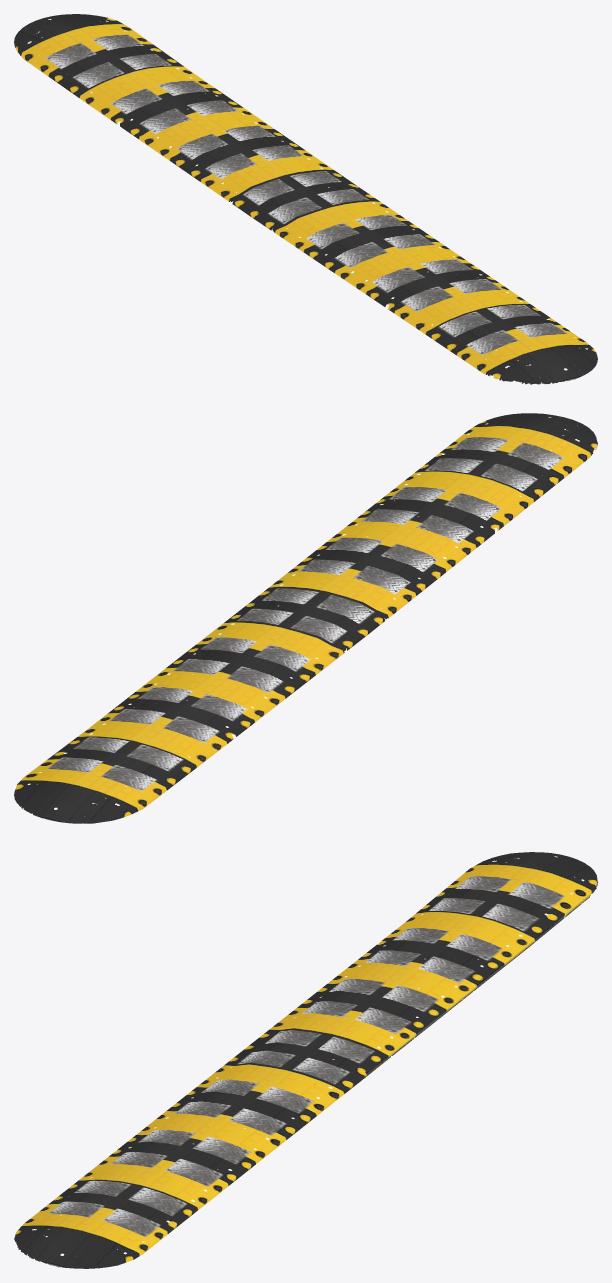
Rendered from Speedbrakernew.fbx.
The picture shows the model from 3 angles, top to bottom: view 1: azimuth 30°, elevation 25°; view 2: azimuth 150°, elevation 25°; view 3: azimuth 330°, elevation 25°; orthographic projection. The views are drawn at different scales.
Parts seen in each view (by area): view 1: Speedbraker; view 2: Speedbraker; view 3: Speedbraker.
Part boxes in pixels (x1,y1,x2,y2): Speedbraker: (14, 14, 597, 384); Speedbraker: (14, 413, 597, 823); Speedbraker: (14, 852, 597, 1268).
Size of the model in its own units: 132 by 14.24 by 862.
1 material, 1 textured.
